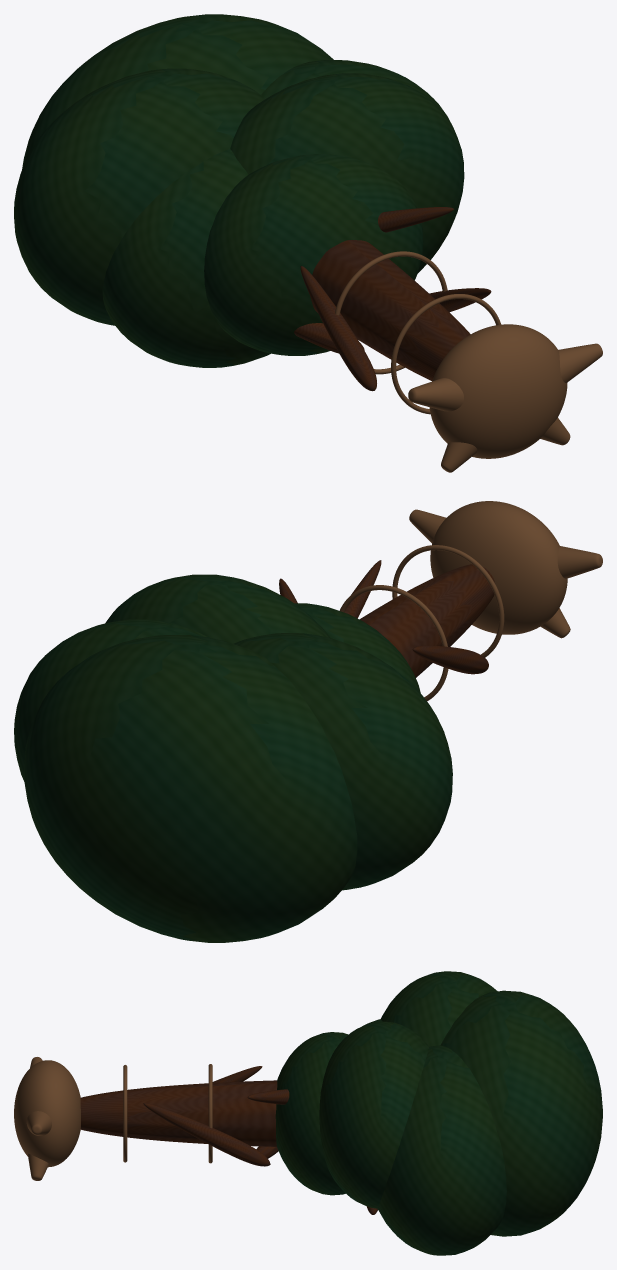
The model's file is vale_tree.glb.
The picture shows the model from 3 angles, top to bottom: view 1: azimuth 30°, elevation 25°; view 2: azimuth 150°, elevation 25°; view 3: azimuth 270°, elevation 25°; orthographic projection. The views are drawn at different scales.
Visible parts, largest first — view 1: Tree_Canopy_01, Tree_Canopy_05, Tree_Canopy_04, Tree_Canopy_03, Tree_RootFlare, Tree_Canopy_00, Tree_Trunk, Tree_Branch_04, Tree_Canopy_02, Tree_Root_01, Tree_Bark_Collar_00, Tree_Branch_01 (+5 smaller); view 2: Tree_Canopy_00, Tree_Canopy_01, Tree_RootFlare, Tree_Canopy_04, Tree_Trunk, Tree_Canopy_02, Tree_Canopy_05, Tree_Branch_04, Tree_Bark_Collar_00, Tree_Root_01, Tree_Bark_Collar_01, Tree_Branch_00 (+1 smaller); view 3: Tree_Canopy_00, Tree_Canopy_02, Tree_Canopy_04, Tree_Trunk, Tree_Canopy_05, Tree_RootFlare, Tree_Canopy_01, Tree_Branch_00, Tree_Root_00, Tree_Branch_01, Tree_Bark_Collar_00, Tree_Bark_Collar_01.
Boxes of the visible parts, left/top/right/bottom form: Tree_Canopy_01: left=14, top=68, right=263, bottom=325; Tree_Canopy_05: left=204, top=153, right=423, bottom=355; Tree_Canopy_04: left=230, top=73, right=464, bottom=266; Tree_Canopy_03: left=102, top=149, right=270, bottom=367; Tree_RootFlare: left=429, top=324, right=567, bottom=458; Tree_Canopy_00: left=22, top=14, right=333, bottom=169; Tree_Trunk: left=310, top=240, right=470, bottom=380; Tree_Branch_04: left=300, top=266, right=376, bottom=391; Tree_Canopy_02: left=261, top=60, right=454, bottom=273; Tree_Root_01: left=408, top=378, right=463, bottom=411; Tree_Bark_Collar_00: left=391, top=294, right=501, bottom=414; Tree_Branch_01: left=378, top=207, right=453, bottom=232; Tree_Canopy_00: left=24, top=635, right=357, bottom=942; Tree_Canopy_01: left=233, top=633, right=452, bottom=890; Tree_RootFlare: left=430, top=501, right=567, bottom=634; Tree_Canopy_04: left=105, top=574, right=330, bottom=643; Tree_Trunk: left=359, top=564, right=494, bottom=677; Tree_Canopy_02: left=14, top=619, right=208, bottom=781; Tree_Canopy_05: left=294, top=603, right=420, bottom=693; Tree_Branch_04: left=412, top=645, right=488, bottom=674; Tree_Bark_Collar_00: left=392, top=545, right=504, bottom=657; Tree_Root_01: left=557, top=546, right=602, bottom=578; Tree_Bark_Collar_01: left=339, top=585, right=448, bottom=701; Tree_Branch_00: left=344, top=560, right=381, bottom=618; Tree_Canopy_00: left=440, top=990, right=602, bottom=1236; Tree_Canopy_02: left=377, top=1045, right=506, bottom=1255; Tree_Canopy_04: left=319, top=1021, right=429, bottom=1208; Tree_Trunk: left=80, top=1080, right=277, bottom=1146; Tree_Canopy_05: left=275, top=1032, right=348, bottom=1195; Tree_RootFlare: left=14, top=1060, right=80, bottom=1167; Tree_Canopy_01: left=381, top=971, right=497, bottom=1046; Tree_Branch_00: left=143, top=1103, right=270, bottom=1166; Tree_Root_00: left=26, top=1111, right=51, bottom=1135; Tree_Branch_01: left=247, top=1089, right=289, bottom=1104; Tree_Bark_Collar_00: left=123, top=1065, right=127, bottom=1162; Tree_Bark_Collar_01: left=208, top=1064, right=212, bottom=1163.
Size of the model in its own units: 3.22 by 2.07 by 5.11.
Materials: 3 (2 with a texture image).
